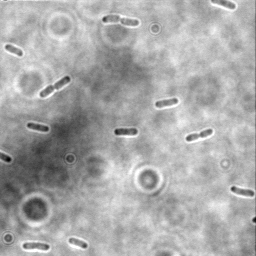Dividing: (39, 75, 72, 99), (102, 13, 141, 28), (185, 127, 215, 142), (22, 240, 52, 251)
Rod: (229, 185, 255, 199), (154, 97, 180, 109), (26, 121, 50, 133), (4, 43, 24, 57), (210, 1, 237, 11), (68, 236, 88, 249), (113, 127, 138, 136)
